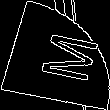M_W: (19, 26, 91, 84)
